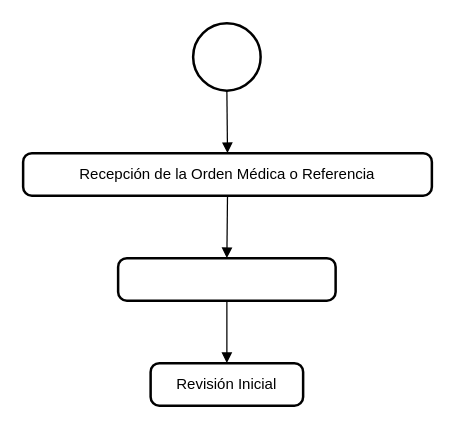
This 454x428 diagram has some shape labels left out. Here are the shapes that lost their labels. From the top down, the centre of each, then its label:
At (226,56): "Inicio".
At (226,278): "Registro en el Sistema".
